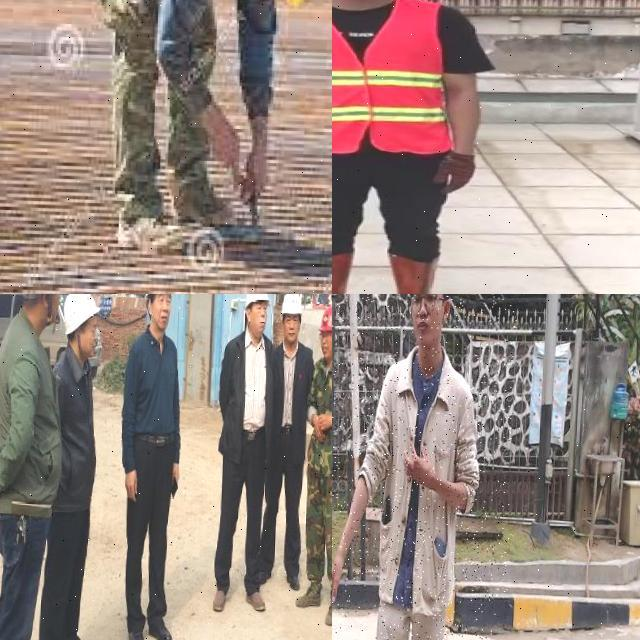boots: (111, 193, 192, 269), (166, 164, 237, 238), (385, 253, 458, 294), (294, 585, 322, 609), (146, 620, 174, 640), (244, 588, 268, 611), (284, 572, 302, 592), (212, 588, 227, 611), (256, 568, 274, 586), (127, 624, 147, 640), (323, 594, 332, 626)
helmet: (62, 294, 102, 337), (279, 294, 303, 321), (244, 294, 271, 312), (318, 306, 332, 334)
vest: (332, 0, 450, 154)
